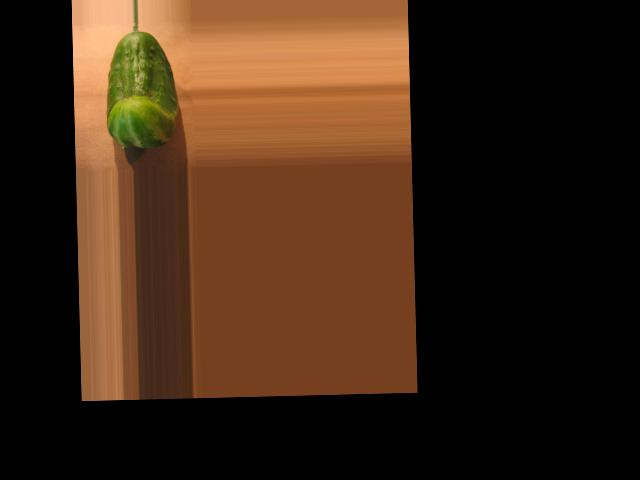cucumber: (103, 30, 178, 148)
